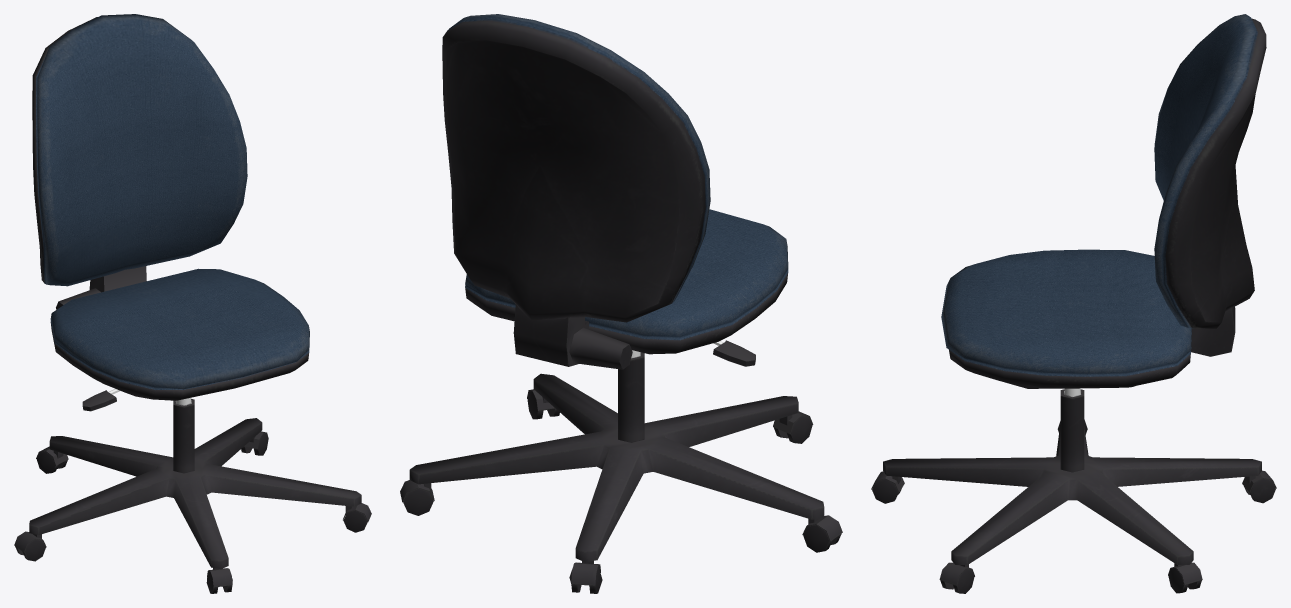
File: chair.obj
The picture shows the model from 3 angles, left to right: view 1: azimuth 30°, elevation 25°; view 2: azimuth 150°, elevation 25°; view 3: azimuth 270°, elevation 25°; orthographic projection. The views are drawn at different scales.
Parts seen in each view (by area): view 1: Cylinder001_M_Office_Chair_0; view 2: Cylinder001_M_Office_Chair_0; view 3: Cylinder001_M_Office_Chair_0.
Boxes of the visible parts, bbox=[...] form: Cylinder001_M_Office_Chair_0: bbox=[14, 14, 371, 593]; Cylinder001_M_Office_Chair_0: bbox=[400, 14, 842, 593]; Cylinder001_M_Office_Chair_0: bbox=[871, 14, 1276, 593].
Bounding box in the file's own units: 1.05 × 1.49 × 1.11.
1 material, 1 textured.
